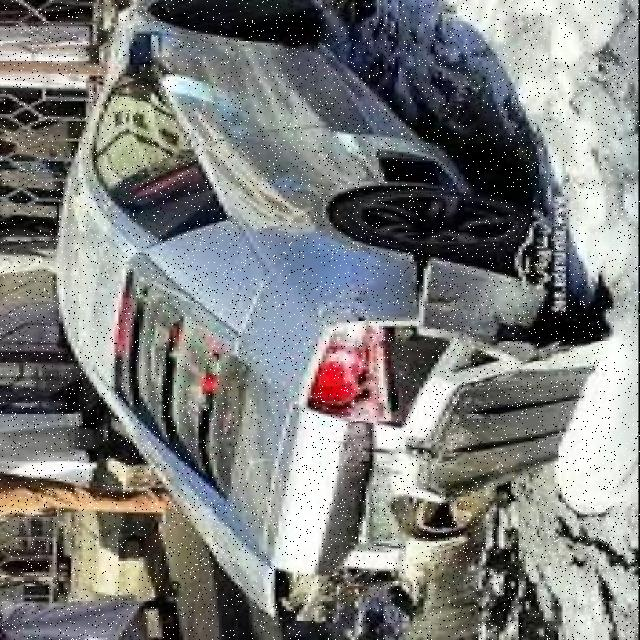damage: (267, 255, 604, 640)
